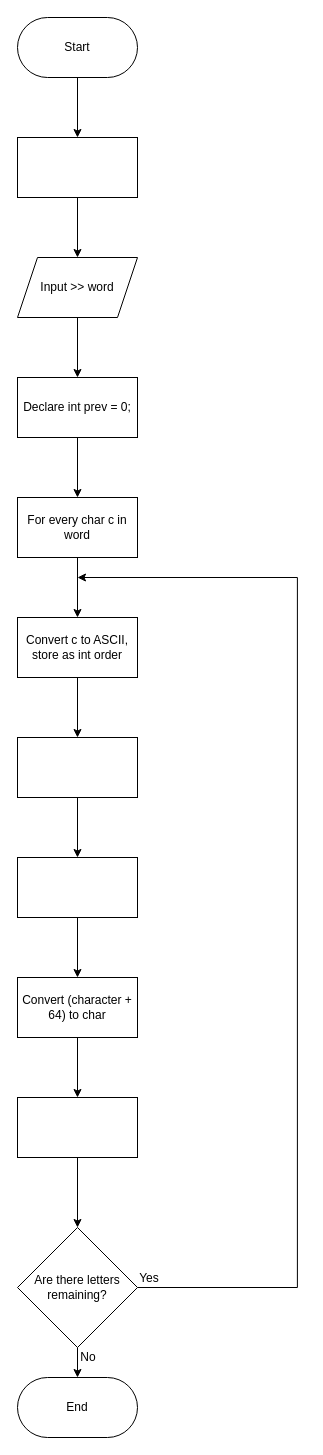
Some shapes in this 323 by 1455 pixel diagram are drawn without their labels. Each missing label, with the centre of its shape:
Declare String word;: point (77, 167)
int character = (order + prev) % 26: point (77, 767)
Print char: point (77, 1127)
Set prev = order: point (77, 887)
